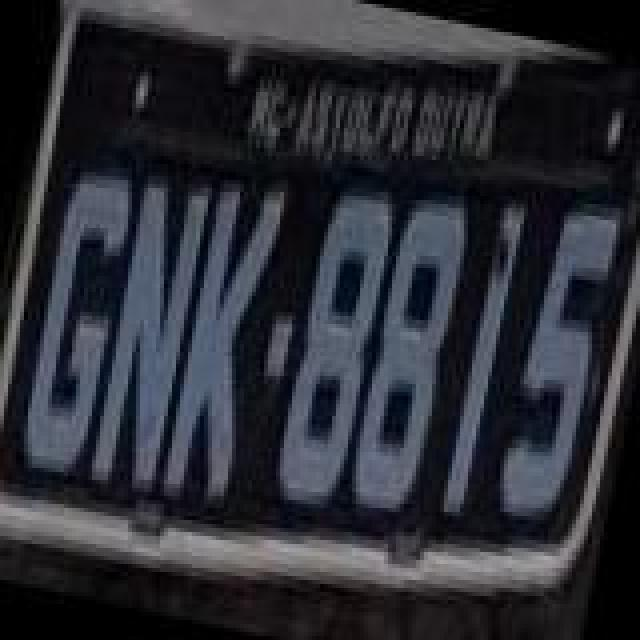1: (434, 202, 526, 526)
5: (490, 196, 630, 532)
8: (340, 192, 476, 528), (268, 186, 404, 518)
G: (8, 158, 144, 482)
K: (156, 178, 292, 510)
N: (80, 174, 216, 498)
